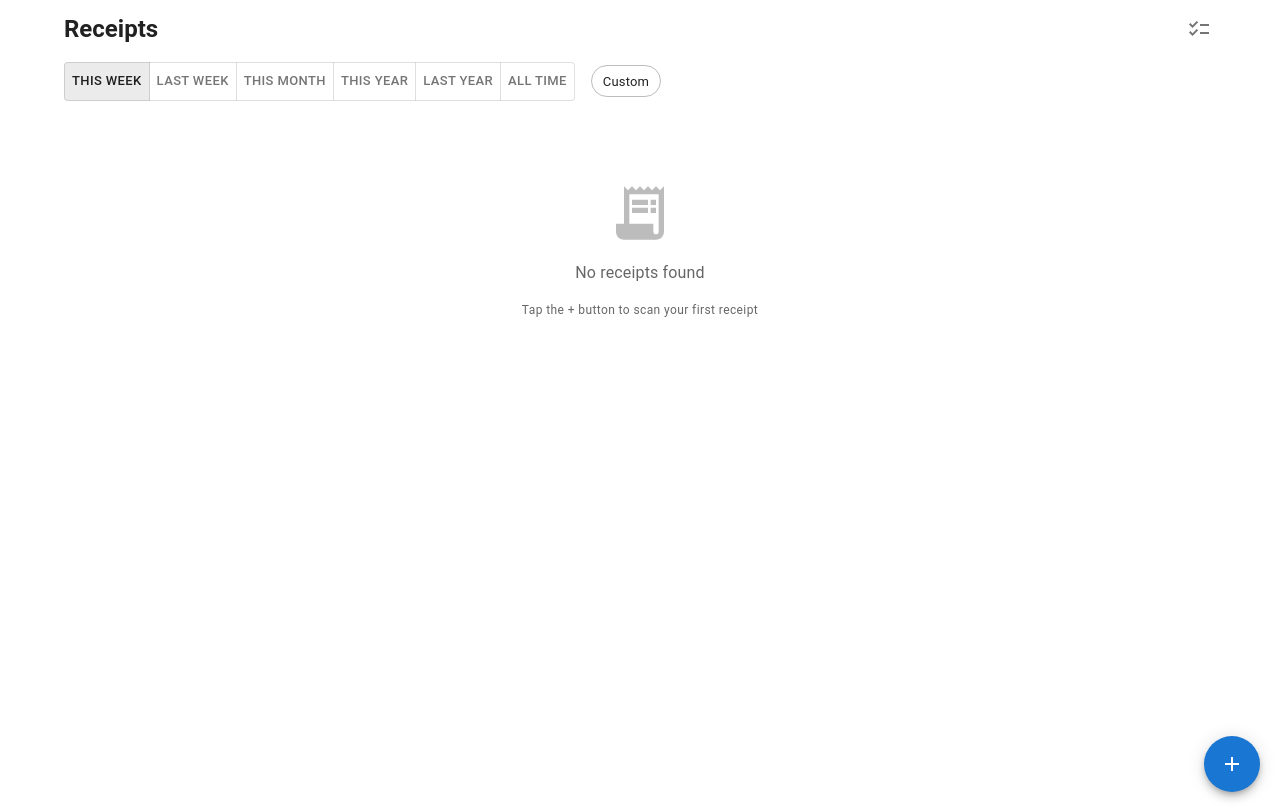
Scenario: Receipts page › hides FAB when selection mode is active
Expected: the icon with test id "AddIcon" is shown, 1220,752 -> 1244,776
Click the button with test id "ChecklistIcon": (1199, 29) 1182,12 -> 1216,46
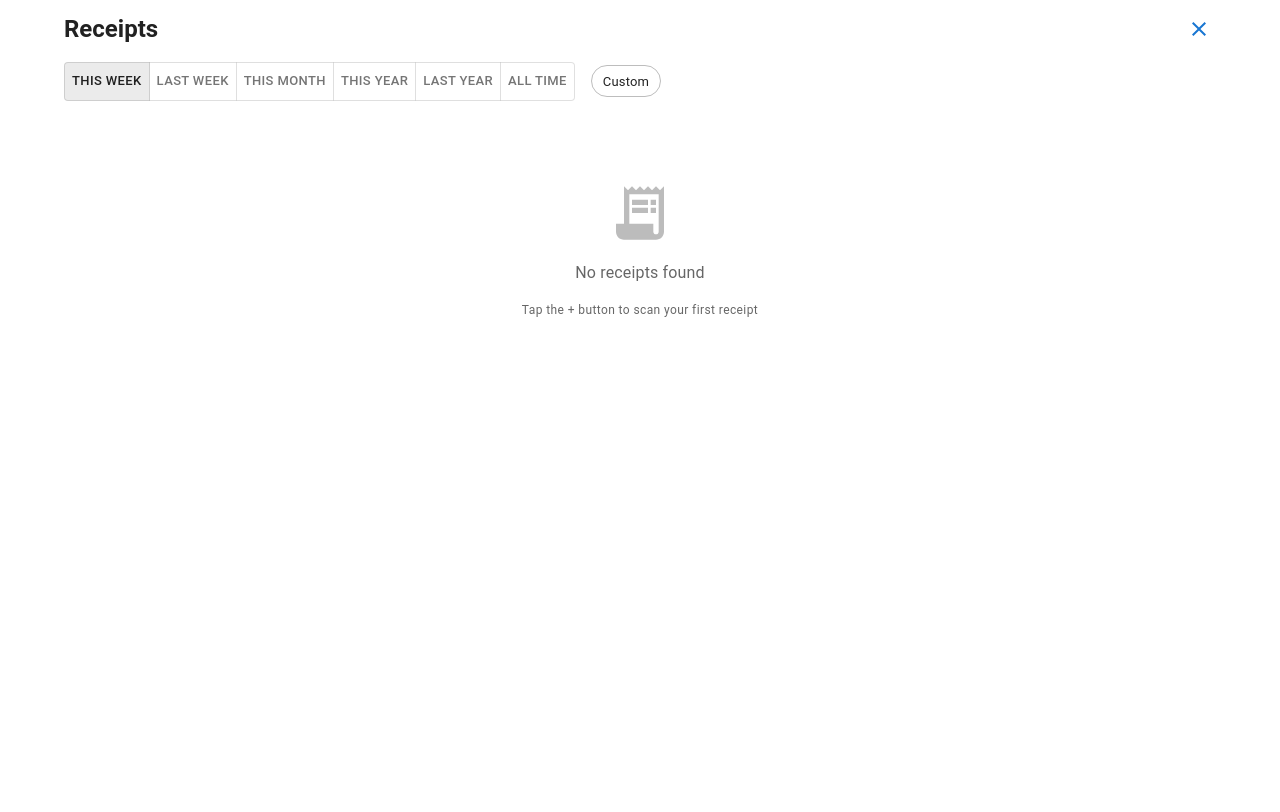
Now the icon with test id "AddIcon" is gone
